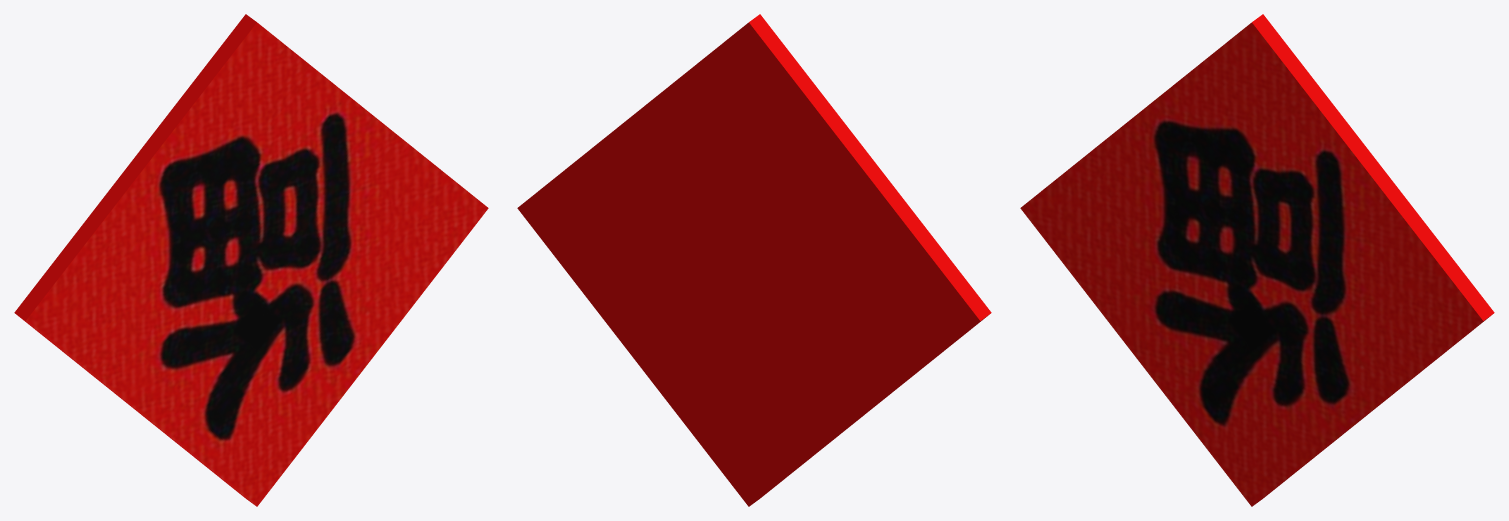
3 views of the same model, side by side, from view 1: azimuth 30°, elevation 25°; view 2: azimuth 150°, elevation 25°; view 3: azimuth 330°, elevation 25° (orthographic).
Visible parts, largest first — view 1: pCube1; view 2: pCube1; view 3: pCube1.
Part boxes in pixels (x1,y1,x2,y2): pCube1: (14,14,488,506); pCube1: (517,14,991,506); pCube1: (1020,14,1494,506).
Size of the model in its own units: 63.44 by 63.44 by 2.69.
